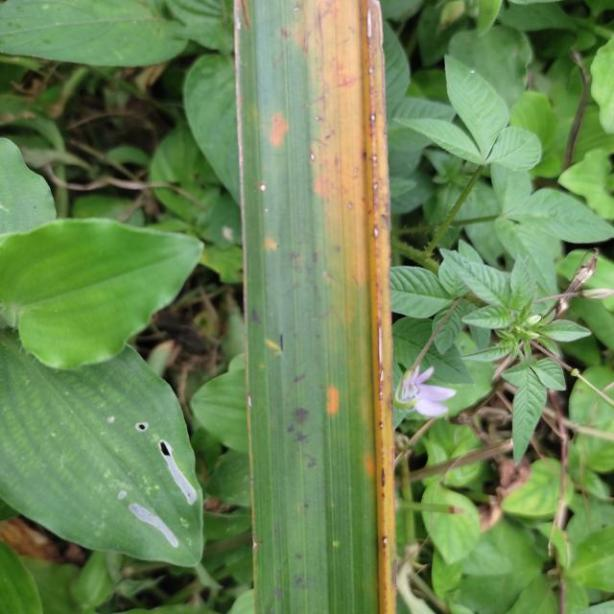Megnesium: (240, 0, 398, 614)
